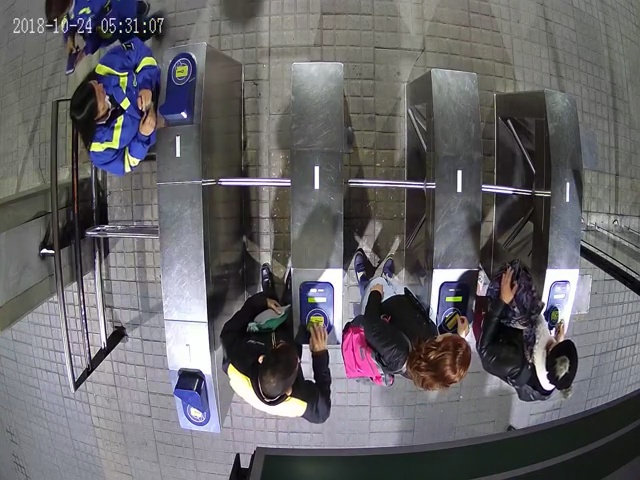Chaleco_azul: (70, 38, 161, 176), (44, 1, 170, 73)
